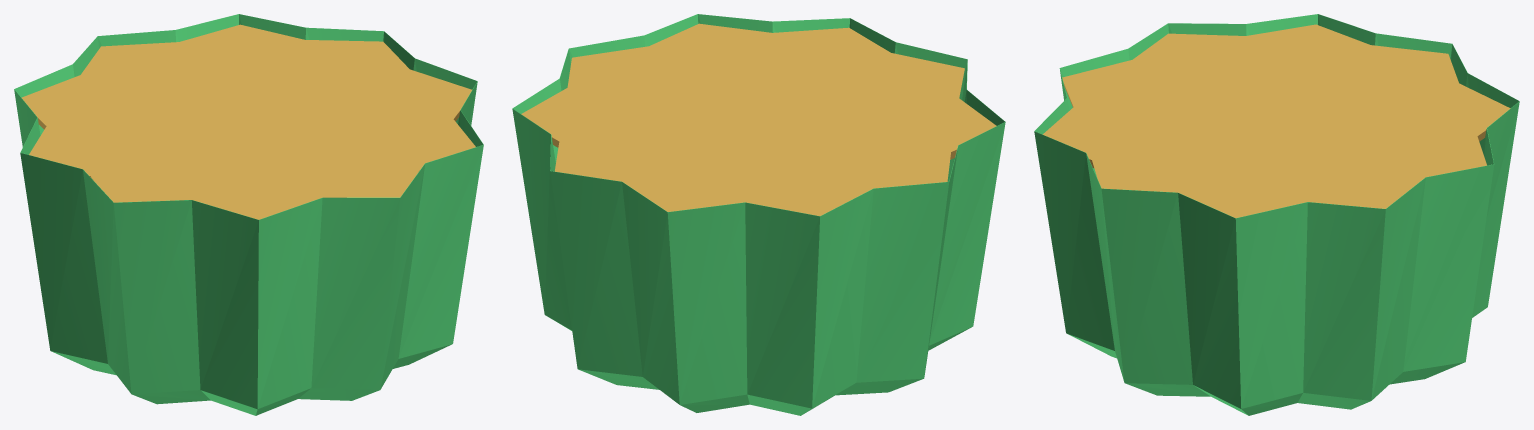
The model's file is korpica sa testom.fbx.
3 views of the same model, side by side, from view 1: azimuth 30°, elevation 25°; view 2: azimuth 150°, elevation 25°; view 3: azimuth 270°, elevation 25° (orthographic).
Parts seen in each view (by area): view 1: PW_cupcake_cherry.002; view 2: PW_cupcake_cherry.002; view 3: PW_cupcake_cherry.002.
Boxes of the visible parts, <box> form: PW_cupcake_cherry.002: <box>14,14,483,415</box>; PW_cupcake_cherry.002: <box>512,14,1005,415</box>; PW_cupcake_cherry.002: <box>1034,14,1519,415</box>.
Size of the model in its own units: 15.84 by 8.43 by 15.9.
